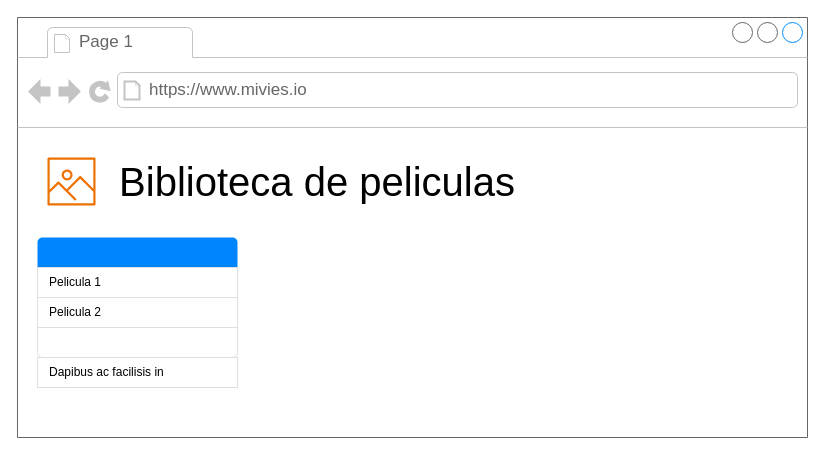
Some shapes in this 825 by 455 pixel diagram are drawn without their labels. Each missing label, with the centre of its shape:
Listado de peliculas: the point at 137,252
Vestibulum at eros: the point at 137,342
